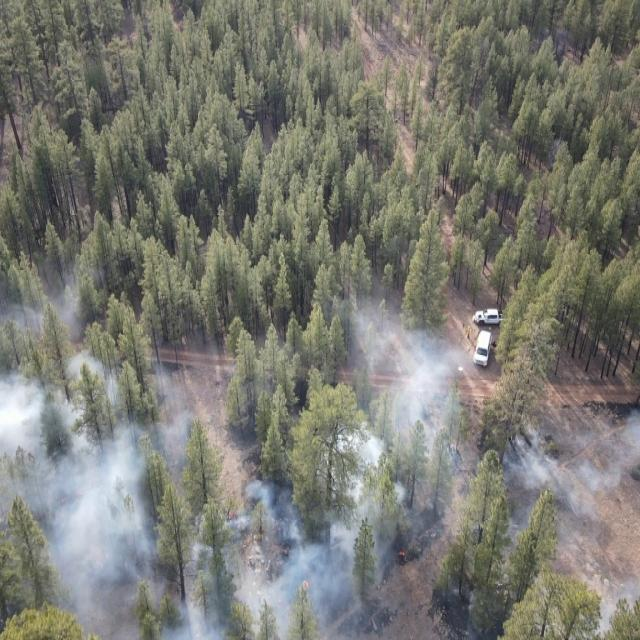fire: (216, 504, 320, 594), (380, 531, 424, 580), (54, 483, 90, 509)
smoke: (338, 274, 469, 598), (160, 477, 368, 640), (0, 355, 196, 507), (484, 403, 640, 528), (35, 506, 156, 640), (514, 554, 639, 640), (0, 262, 109, 356)
